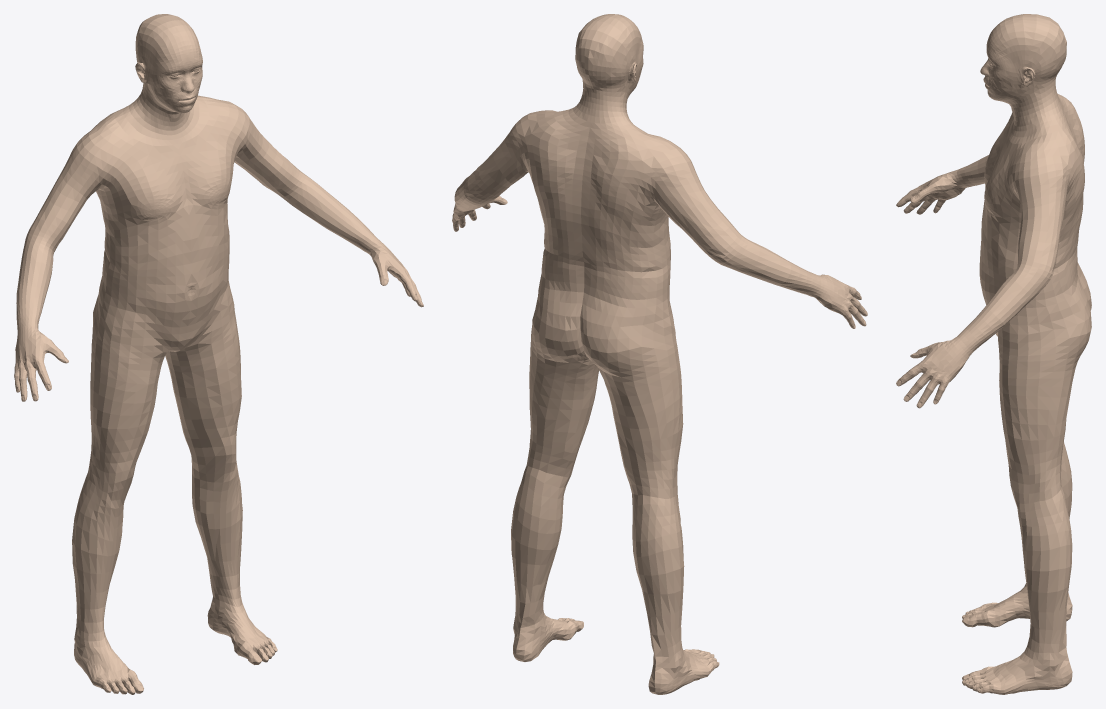
The model's file is male-adult-heavy-toned.glb.
The picture shows the model from 3 angles, left to right: view 1: azimuth 30°, elevation 25°; view 2: azimuth 150°, elevation 25°; view 3: azimuth 270°, elevation 25°; orthographic projection.
Visible parts, largest first — view 1: world; view 2: world; view 3: world.
Boxes of the visible parts, x1=… form: world: x1=14, y1=14, x2=423, y2=694; world: x1=452, y1=14, x2=867, y2=694; world: x1=896, y1=14, x2=1091, y2=694.
Size of the model in its own units: 1.28 by 1.95 by 0.5418.
